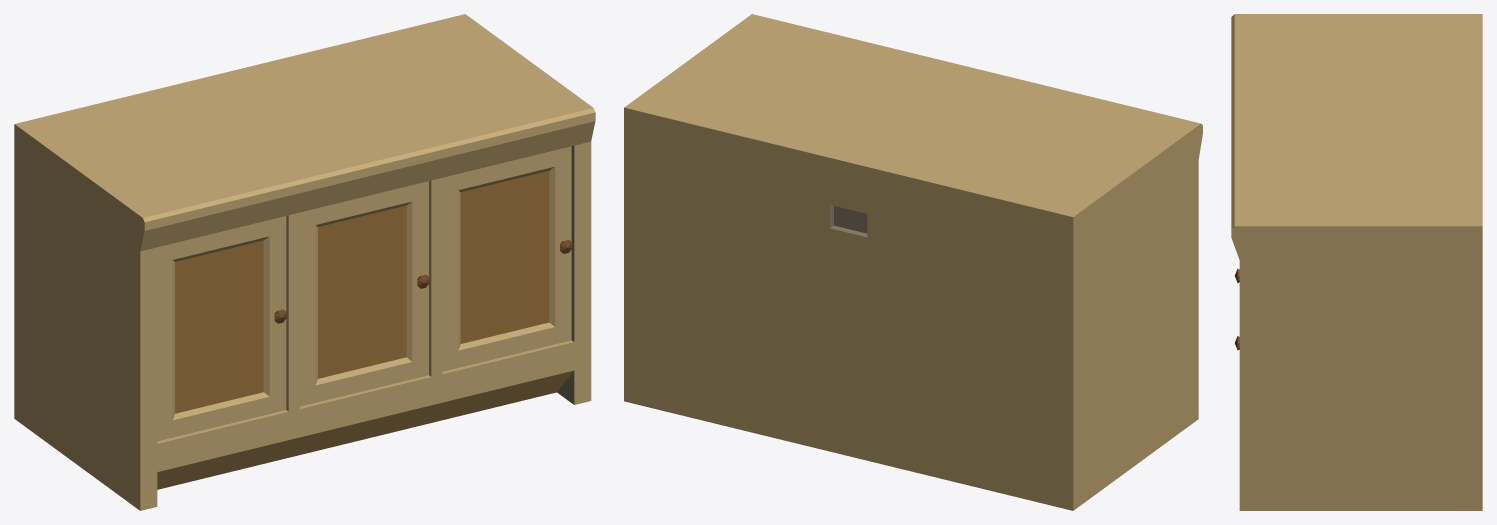
File: blond-oak-sump-cabinet-4d3d2f.glb
The picture shows the model from 3 angles, left to right: view 1: azimuth 30°, elevation 25°; view 2: azimuth 150°, elevation 25°; view 3: azimuth 270°, elevation 25°; orthographic projection. The views are drawn at different scales.
Visible parts, largest first — view 1: blond-oak-sump-cabinet, door-3, door-1, door-2; view 2: blond-oak-sump-cabinet, door-3; view 3: blond-oak-sump-cabinet.
Part boxes in pixels (<box>): blond-oak-sump-cabinet: <box>14,14,595,510</box>; door-3: <box>442,146,572,371</box>; door-1: <box>157,216,286,441</box>; door-2: <box>300,181,429,406</box>; blond-oak-sump-cabinet: <box>624,14,1202,510</box>; door-3: <box>834,206,867,233</box>; blond-oak-sump-cabinet: <box>1231,14,1482,510</box>.
Size of the model in its own units: 1.2 by 0.75 by 0.6.
